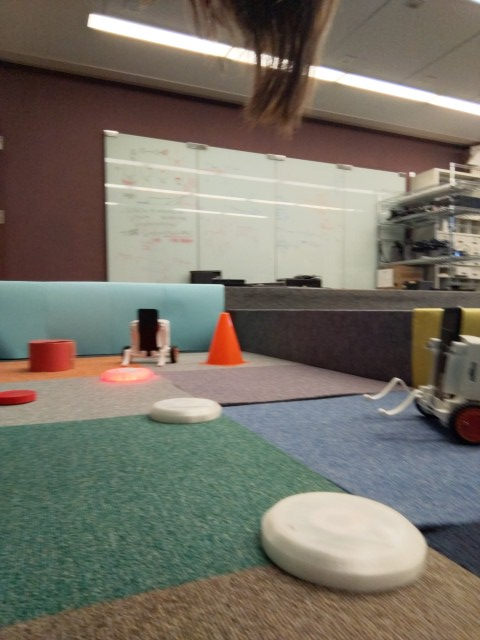bl: (358, 302, 480, 444)
f: (118, 303, 180, 370)
o: (256, 487, 430, 596), (150, 395, 224, 428)
r: (98, 367, 155, 383)
